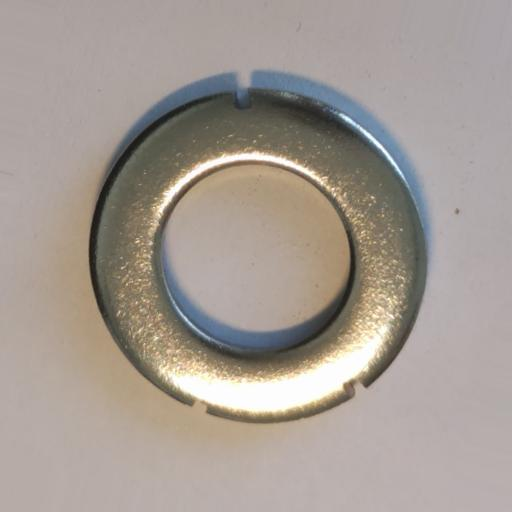burr: (232, 87, 252, 110), (348, 376, 367, 397), (190, 399, 209, 415)
